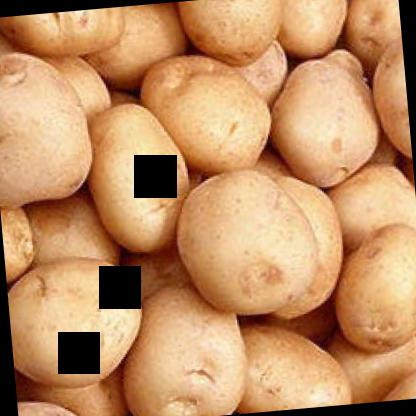potato: (174, 162, 326, 318), (6, 252, 150, 400), (136, 49, 276, 181), (80, 92, 193, 254), (113, 282, 250, 415), (0, 42, 97, 210), (267, 45, 378, 189), (222, 316, 352, 413), (327, 219, 415, 361), (172, 0, 295, 73)
